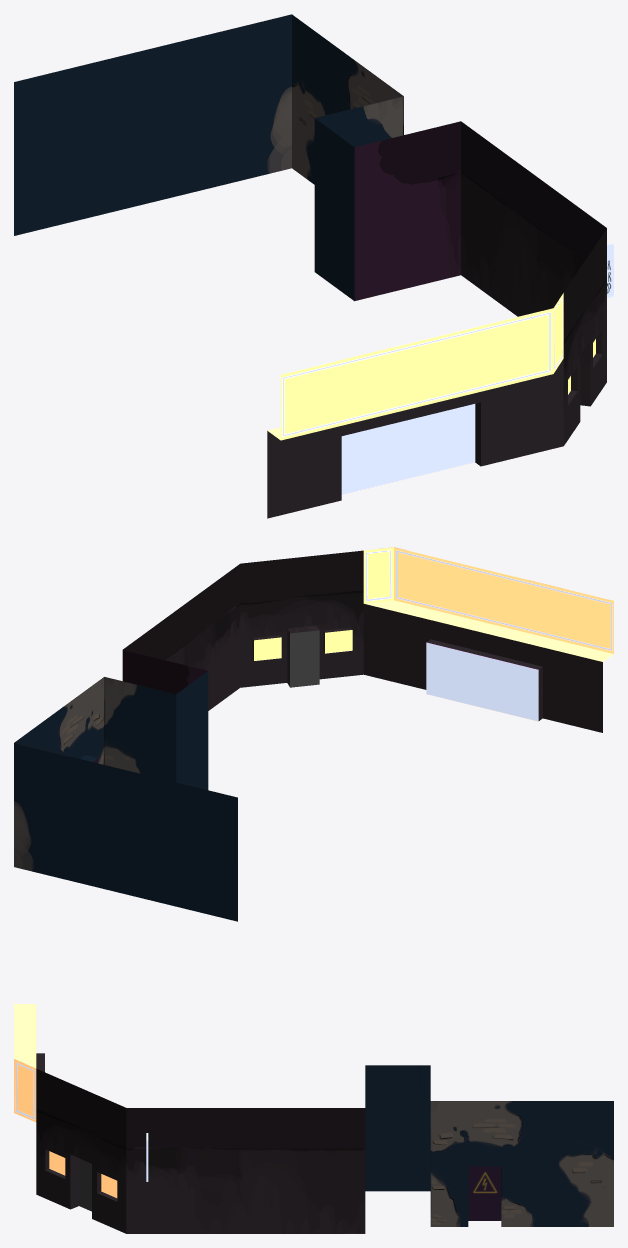
The picture shows the model from 3 angles, top to bottom: view 1: azimuth 30°, elevation 25°; view 2: azimuth 150°, elevation 25°; view 3: azimuth 270°, elevation 25°; orthographic projection. The views are drawn at different scales.
Parts seen in each view (by area): view 1: buildings_tile_Aa, luces_tile_Aa; view 2: buildings_tile_Aa, luces_tile_Aa; view 3: buildings_tile_Aa, luces_tile_Aa.
Boxes of the visible parts, bbox=[...] form: buildings_tile_Aa: bbox=[14, 14, 606, 518]; luces_tile_Aa: bbox=[267, 243, 613, 494]; buildings_tile_Aa: bbox=[14, 550, 602, 921]; luces_tile_Aa: bbox=[254, 547, 613, 721]; buildings_tile_Aa: bbox=[36, 1053, 613, 1233]; luces_tile_Aa: bbox=[14, 1004, 148, 1197].
Bounding box in the file's own units: 18.27 × 6.49 × 28.01.
